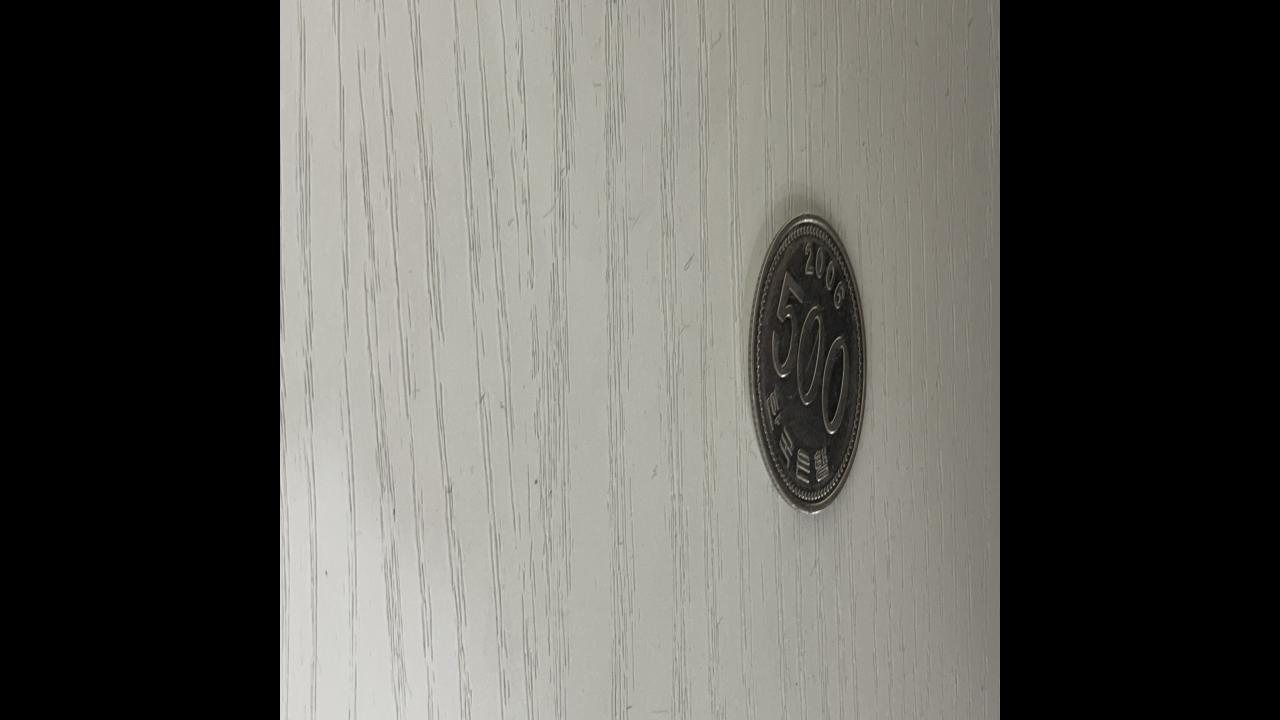coin: (748, 209, 865, 514)
